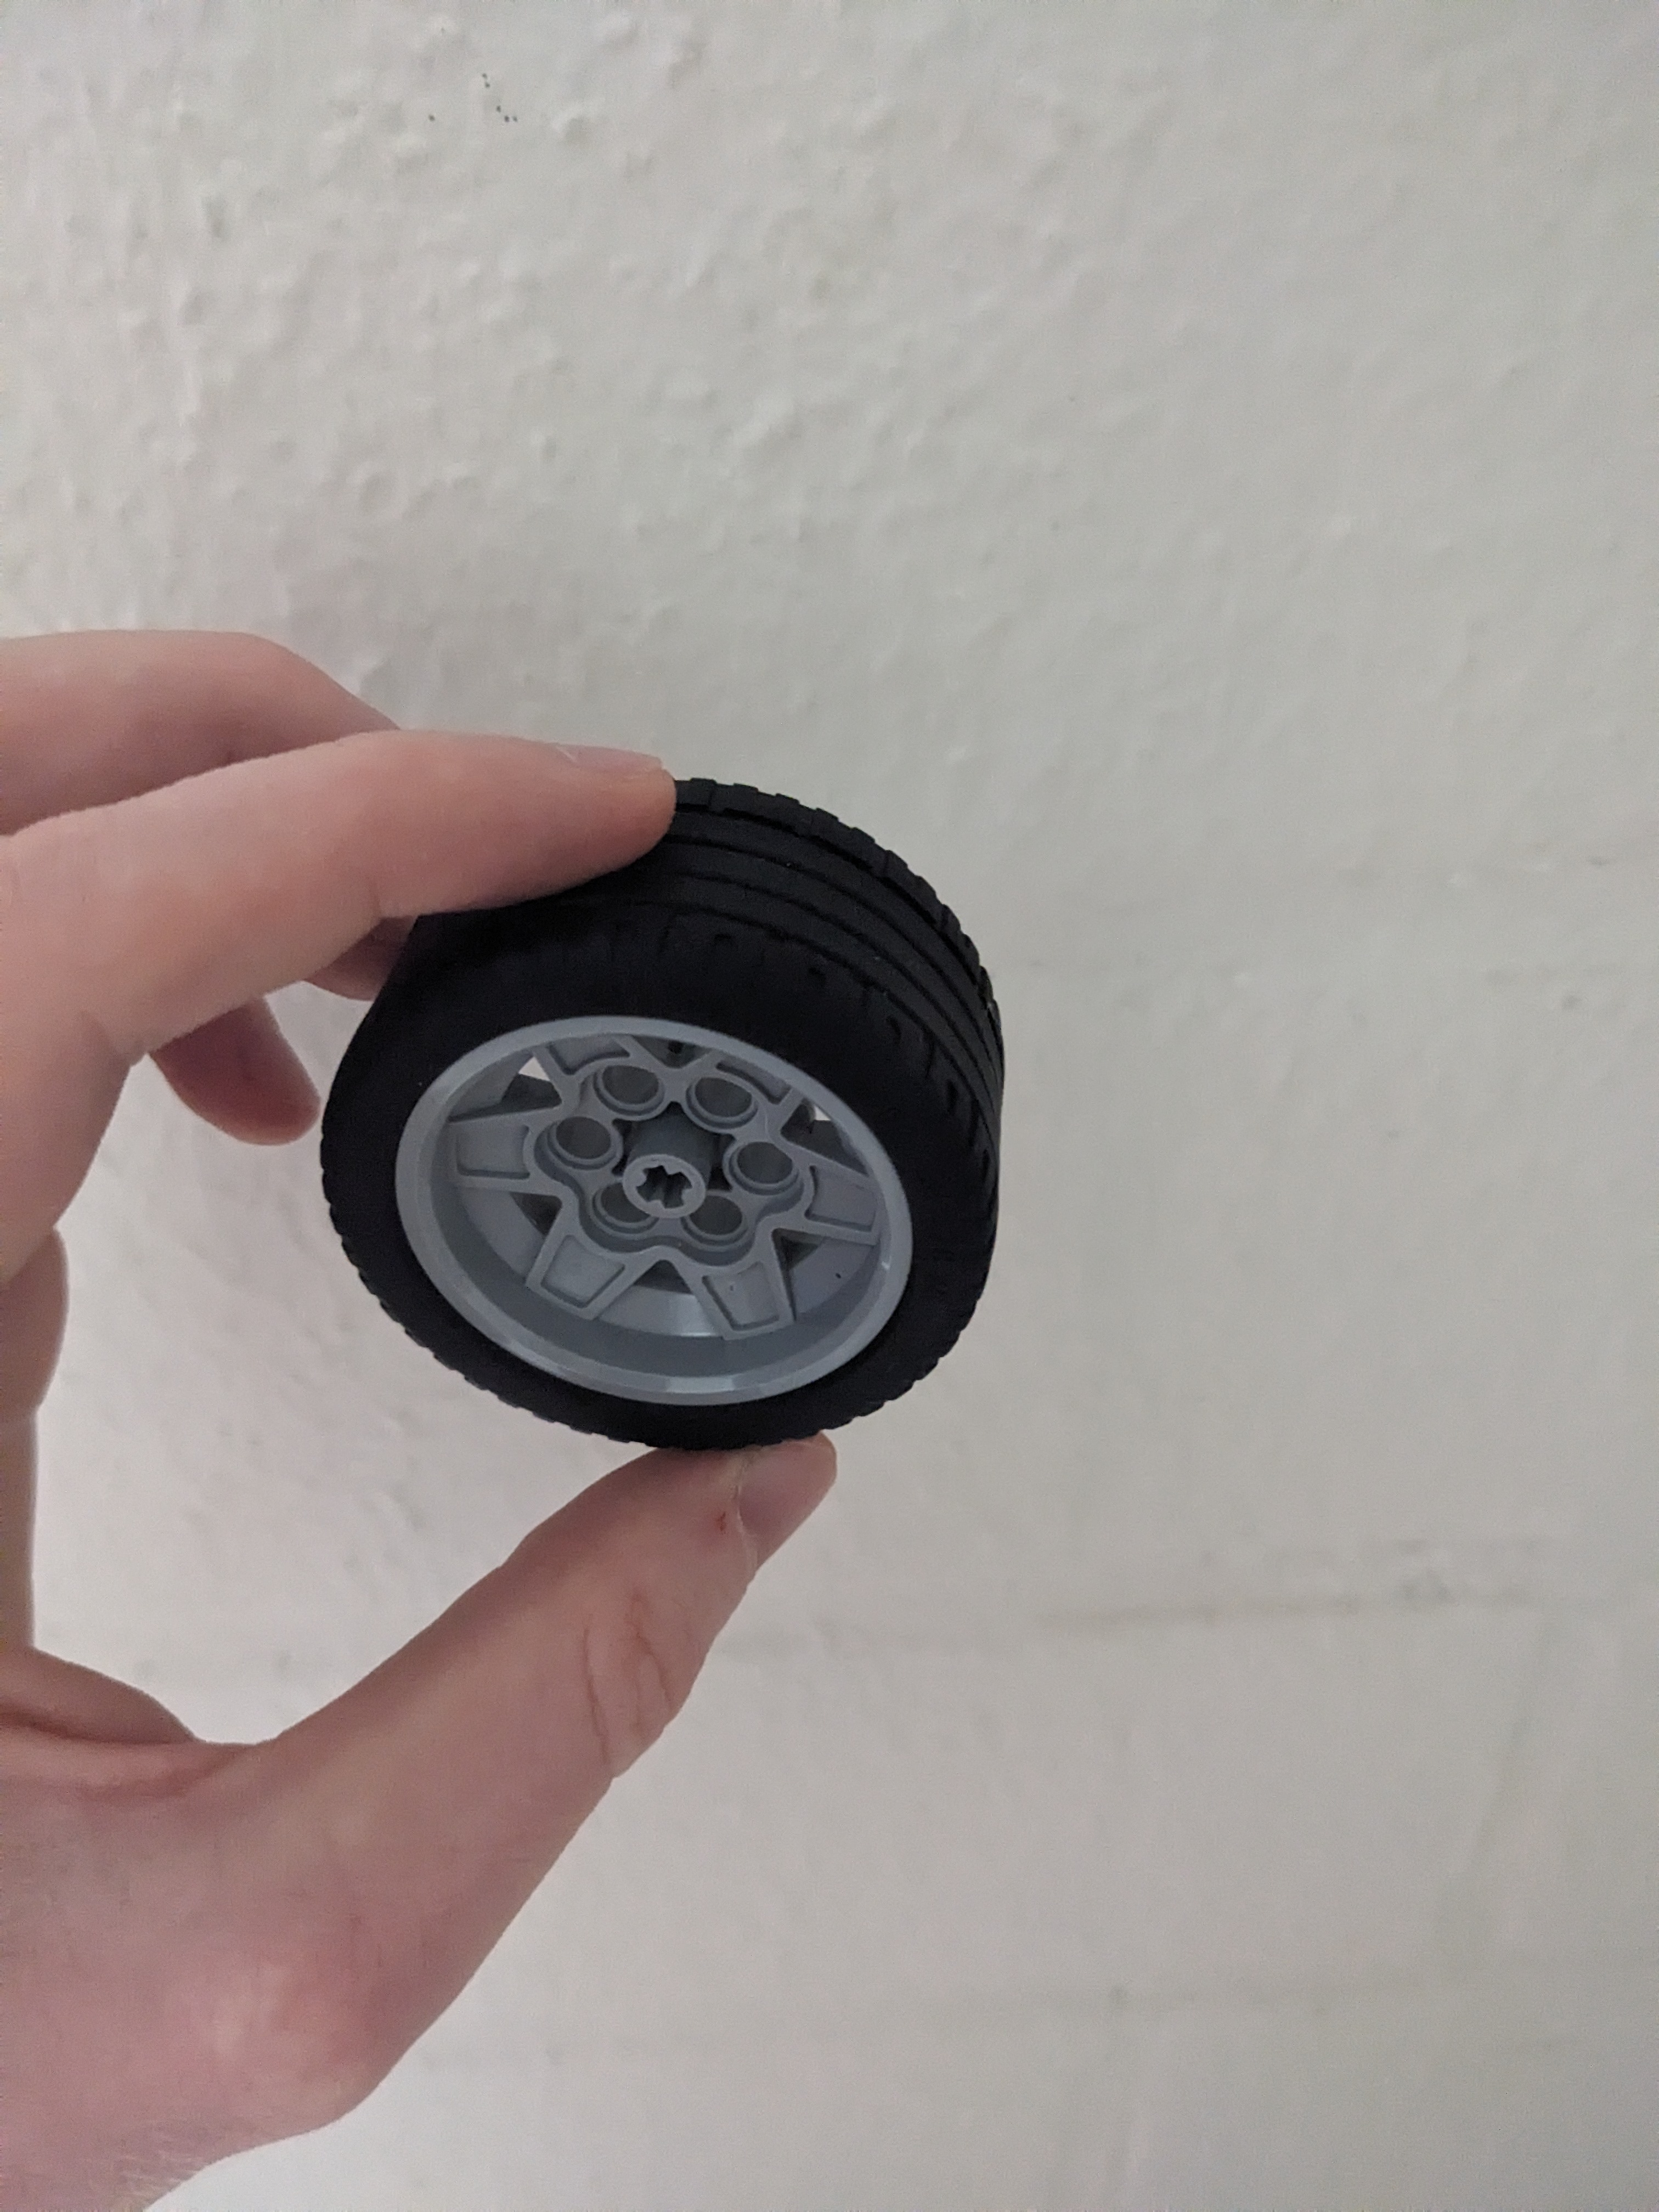Rad: (301, 714, 1032, 1472)
